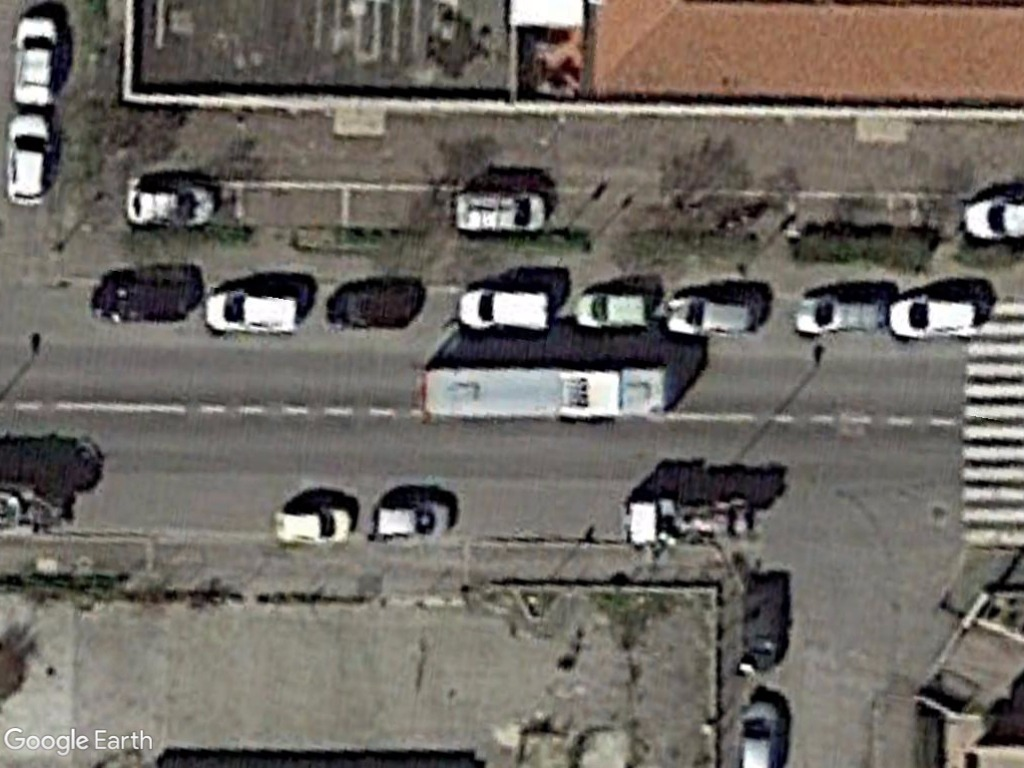bus: (414, 362, 671, 423)
car: (121, 174, 218, 232), (453, 284, 554, 334), (5, 110, 56, 209), (200, 287, 300, 336), (10, 12, 60, 109), (453, 188, 547, 236), (887, 293, 981, 341), (661, 293, 764, 336), (793, 292, 887, 337), (270, 501, 356, 549), (366, 496, 455, 542), (573, 286, 651, 332), (741, 698, 785, 768)
